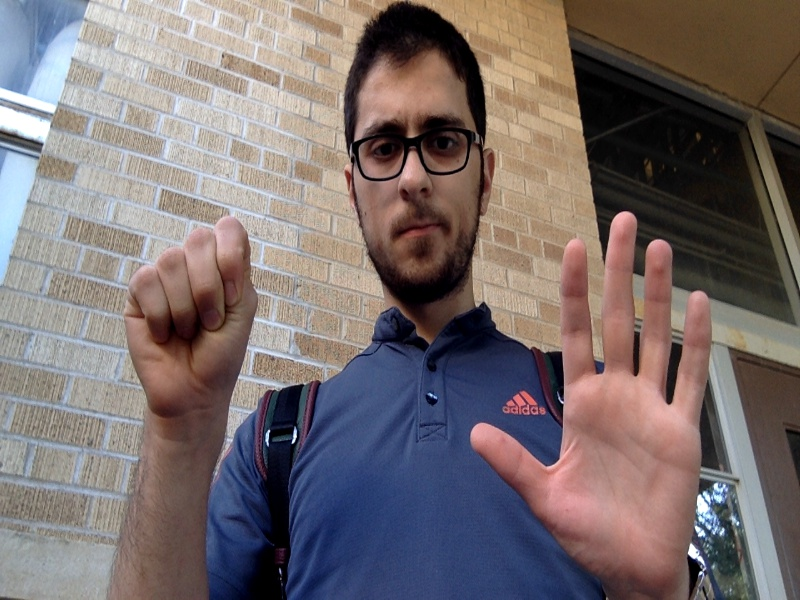0-hand: (123, 217, 259, 421)
5-hand: (468, 210, 712, 586)
